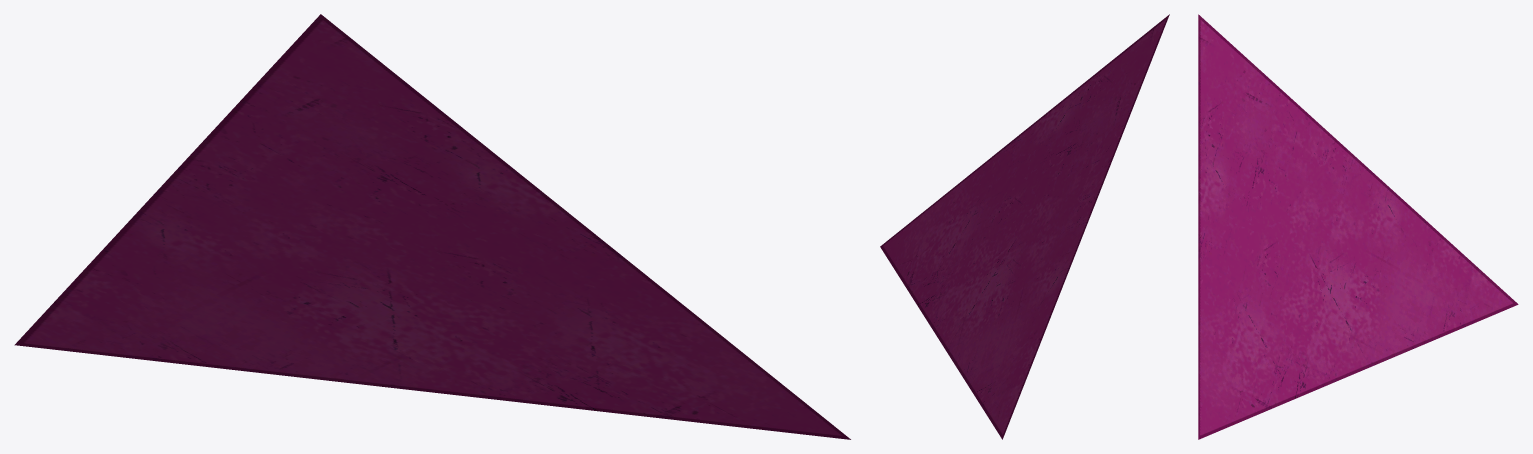
Rendered from Face_CenterTriangle_Small.fbx.
The picture shows the model from 3 angles, left to right: view 1: azimuth 30°, elevation 25°; view 2: azimuth 150°, elevation 25°; view 3: azimuth 270°, elevation 25°; orthographic projection. The views are drawn at different scales.
Visible parts, largest first — view 1: FaceTrianglePlate; view 2: FaceTrianglePlate; view 3: FaceTrianglePlate.
Boxes of the visible parts, x1,y1,x2,y2 form: FaceTrianglePlate: [14, 14, 850, 439]; FaceTrianglePlate: [880, 14, 1169, 439]; FaceTrianglePlate: [1198, 14, 1518, 439].
Size of the model in its own units: 2.5 by 2.5 by 2.5.
